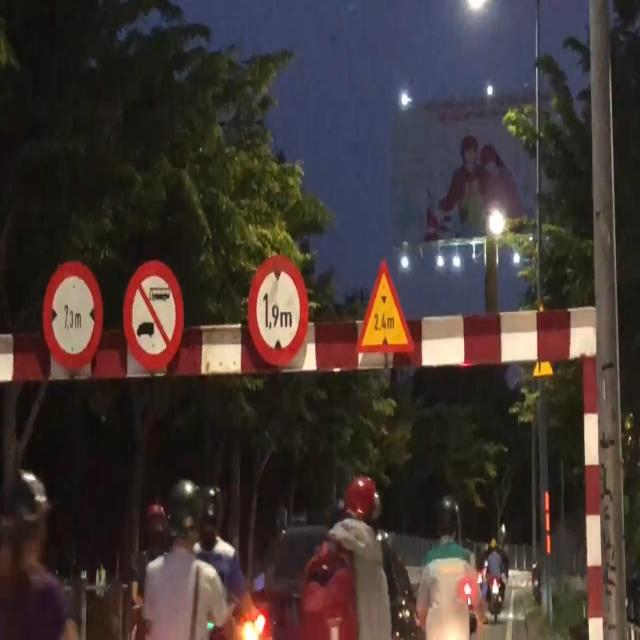Bien bao cam xe oto khach va xe oto tai: (120, 250, 200, 368)
Bien bao chieu cao tinh khong thuc te: (349, 238, 426, 365)
Bien bao han che chieu cao: (240, 238, 310, 362)
